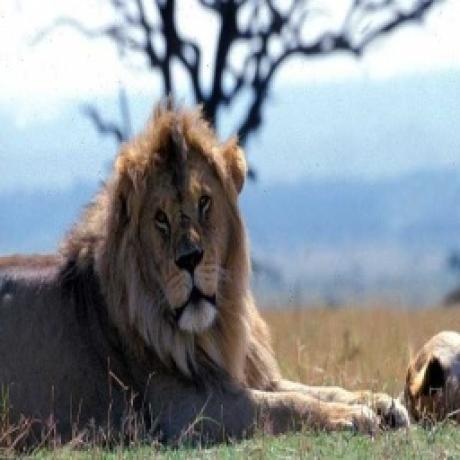Lion: (0, 95, 409, 440)
